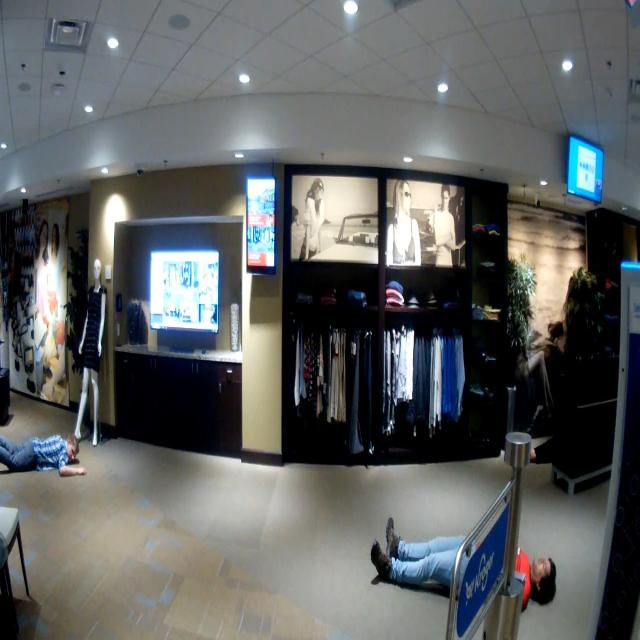fall: (349, 479, 568, 627), (0, 416, 102, 496)
